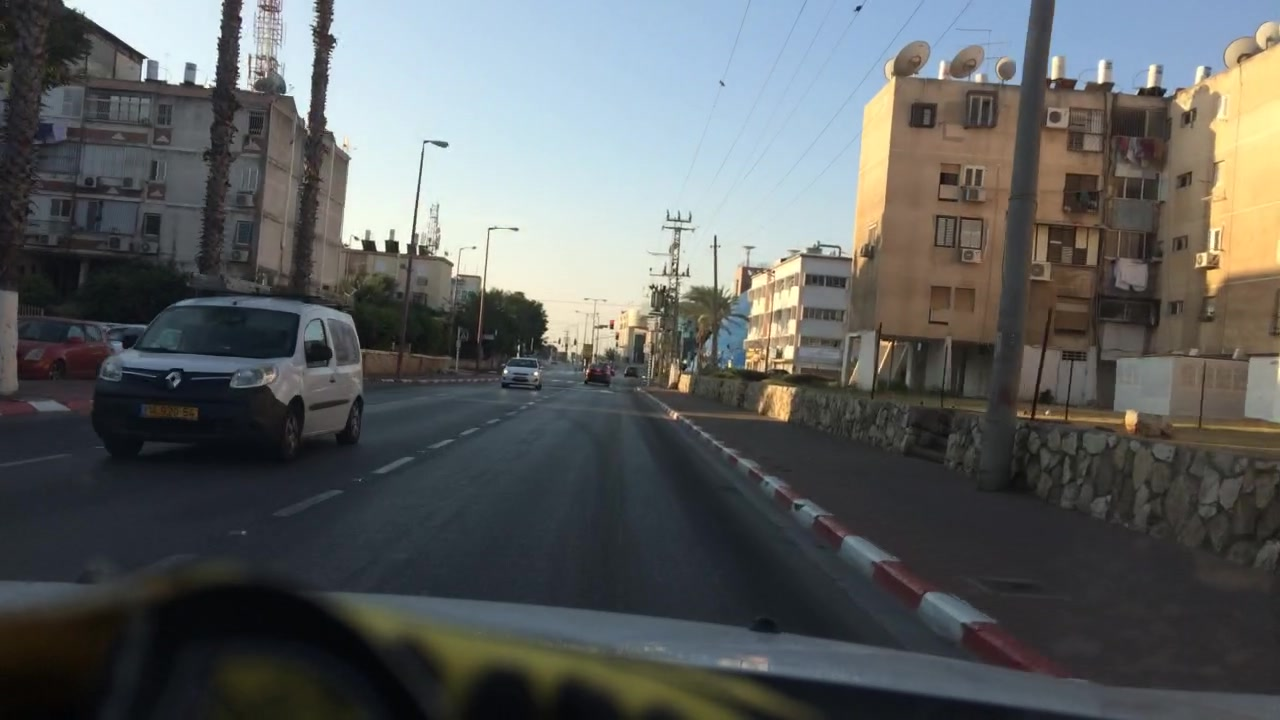licence: (140, 400, 200, 423)
